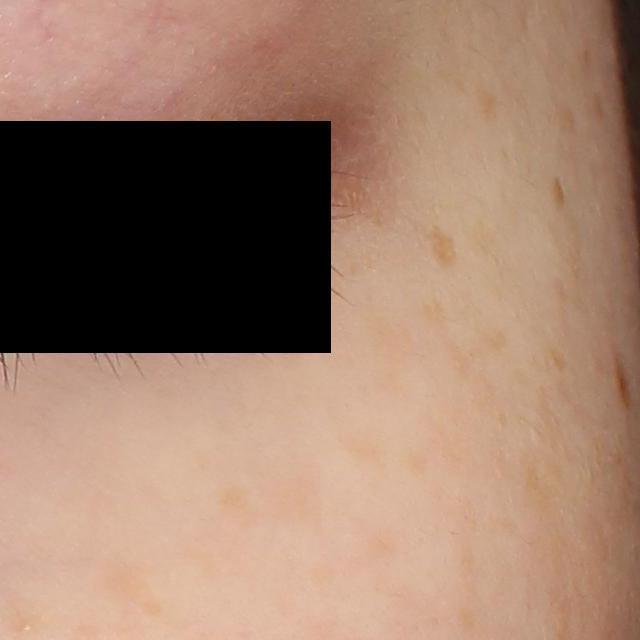melasma: (252, 459, 329, 535), (364, 313, 416, 403), (337, 421, 392, 466), (217, 480, 257, 520), (426, 223, 459, 270), (401, 441, 432, 477), (476, 325, 507, 358), (476, 85, 498, 127), (419, 302, 446, 333)
